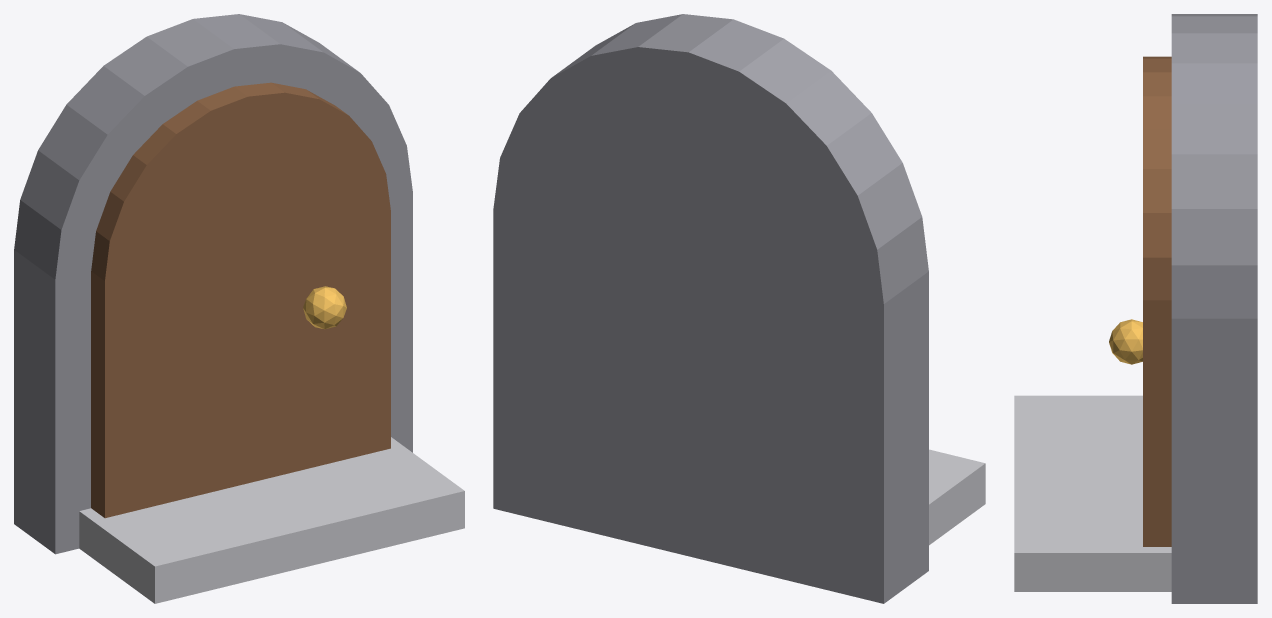
Rendered from deco_fairy_door.obj.
The picture shows the model from 3 angles, left to right: view 1: azimuth 30°, elevation 25°; view 2: azimuth 150°, elevation 25°; view 3: azimuth 270°, elevation 25°; orthographic projection. The views are drawn at different scales.
Visible parts, largest first — view 1: deco_fairy_door; view 2: deco_fairy_door; view 3: deco_fairy_door.
Part boxes in pixels (bbox=[...]): deco_fairy_door: bbox=[14, 14, 464, 603]; deco_fairy_door: bbox=[493, 14, 985, 603]; deco_fairy_door: bbox=[1014, 14, 1257, 603].
Size of the model in its own units: 0.03 by 0.037 by 0.017.
1 material, 1 textured.
